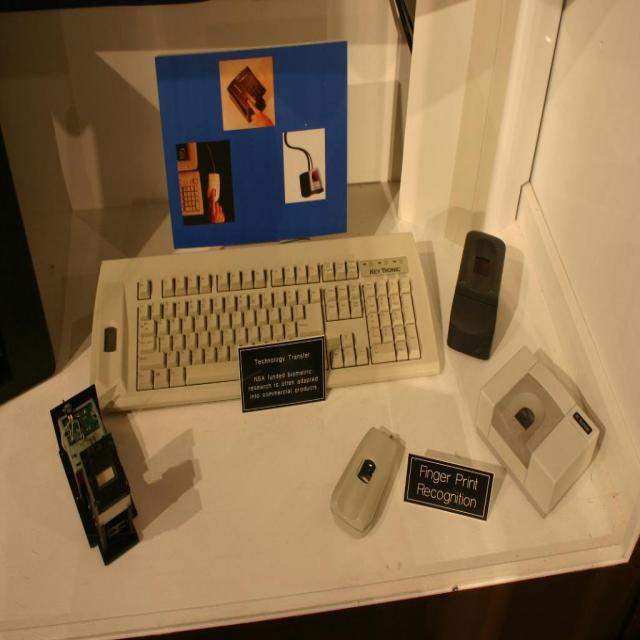desk: (0, 0, 639, 639)
keyboard: (93, 233, 444, 415)
mouse: (330, 424, 406, 538)
